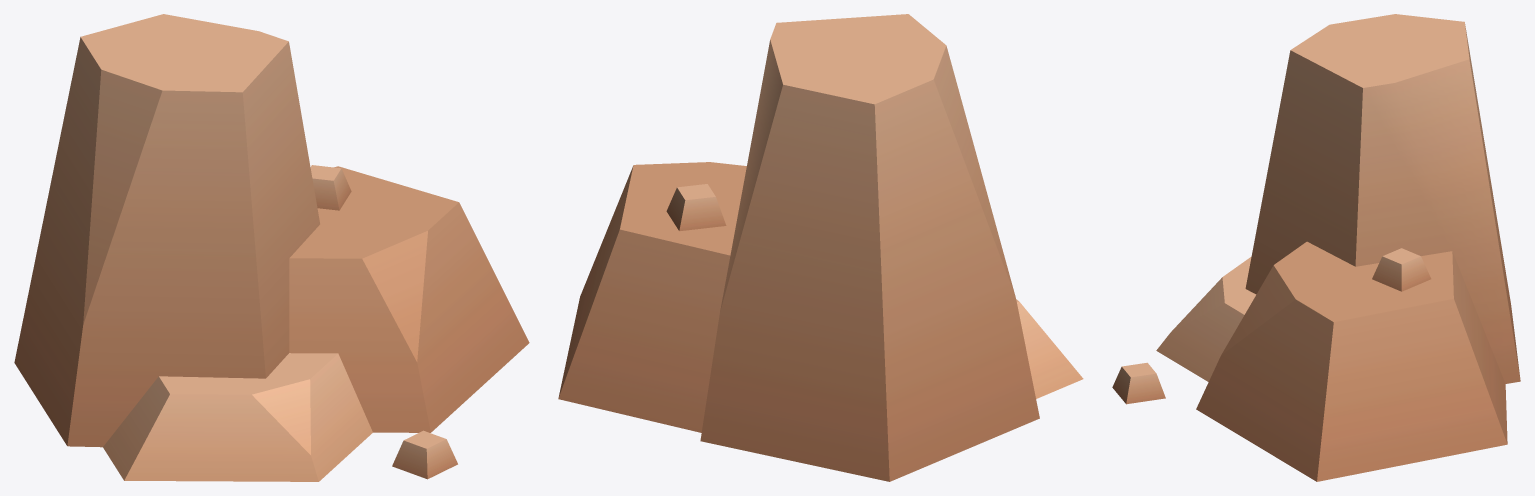
The model's file is kenney-survival-rock-sand-a.glb.
The picture shows the model from 3 angles, left to right: view 1: azimuth 30°, elevation 25°; view 2: azimuth 150°, elevation 25°; view 3: azimuth 270°, elevation 25°; orthographic projection. The views are drawn at different scales.
Visible parts, largest first — view 1: rock-sand-a; view 2: rock-sand-a; view 3: rock-sand-a.
Boxes of the visible parts, bbox=[...] form: rock-sand-a: bbox=[14, 14, 529, 481]; rock-sand-a: bbox=[558, 14, 1083, 481]; rock-sand-a: bbox=[1112, 14, 1520, 481].
Size of the model in its own units: 0.5552 by 0.3927 by 0.4845.
Materials: 1 (1 with a texture image).
